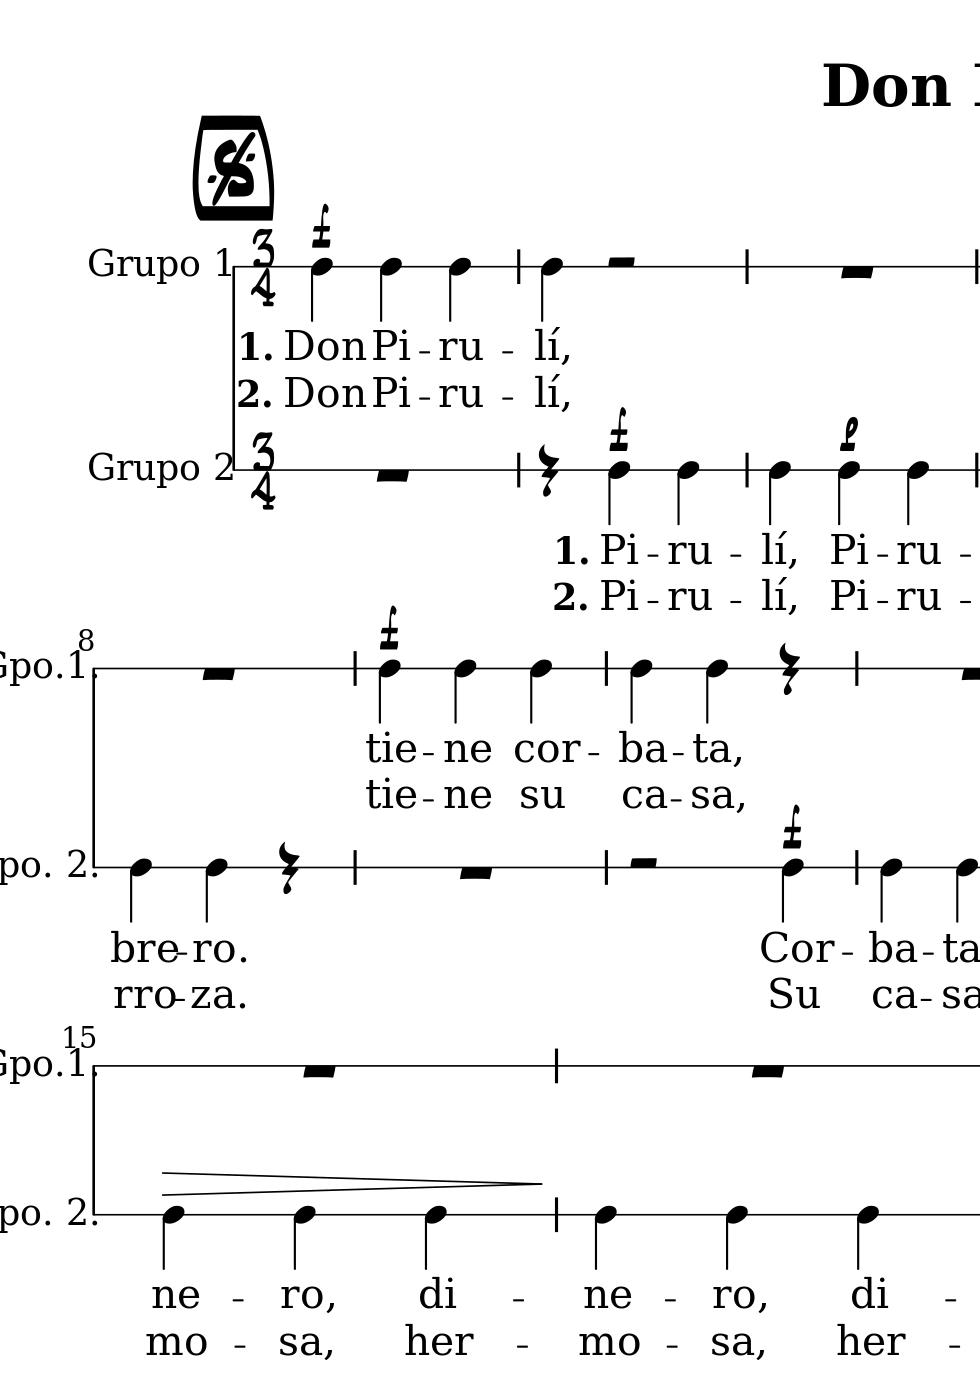3: (249, 433, 279, 478), (250, 227, 277, 268)
4: (248, 469, 279, 512), (250, 265, 279, 306)
4_4: (451, 657, 477, 725), (627, 657, 653, 725), (723, 1201, 749, 1271), (854, 1201, 879, 1271), (377, 255, 402, 323), (904, 458, 929, 527), (203, 855, 228, 924), (592, 1203, 617, 1271), (308, 256, 333, 323), (673, 459, 699, 527), (291, 1201, 315, 1271), (422, 1201, 447, 1271), (605, 459, 630, 526), (766, 459, 791, 526), (538, 257, 564, 320), (778, 857, 804, 923), (377, 657, 401, 725), (527, 657, 552, 725), (127, 855, 152, 923), (835, 459, 859, 526), (703, 657, 728, 724), (877, 857, 902, 924), (953, 856, 977, 925), (160, 1203, 183, 1271), (447, 256, 470, 323)
5: (78, 1023, 95, 1049)
8: (77, 626, 95, 652)
Diminuendo_hairpin: (163, 1170, 546, 1198)
Rests1: (835, 262, 877, 282), (454, 863, 496, 883), (197, 664, 239, 684), (298, 1062, 339, 1081), (372, 466, 413, 485), (748, 1062, 788, 1080)
Rests2: (626, 853, 662, 871), (603, 253, 638, 271)
Rests4: (535, 442, 560, 499), (276, 839, 300, 896), (776, 641, 800, 697)
Segno: (205, 128, 262, 206)
TimeSig: (250, 429, 279, 514), (250, 233, 277, 310)
f: (308, 203, 335, 250), (377, 606, 401, 652), (778, 804, 803, 850)
p: (837, 415, 860, 453)
sf: (606, 405, 630, 455)
